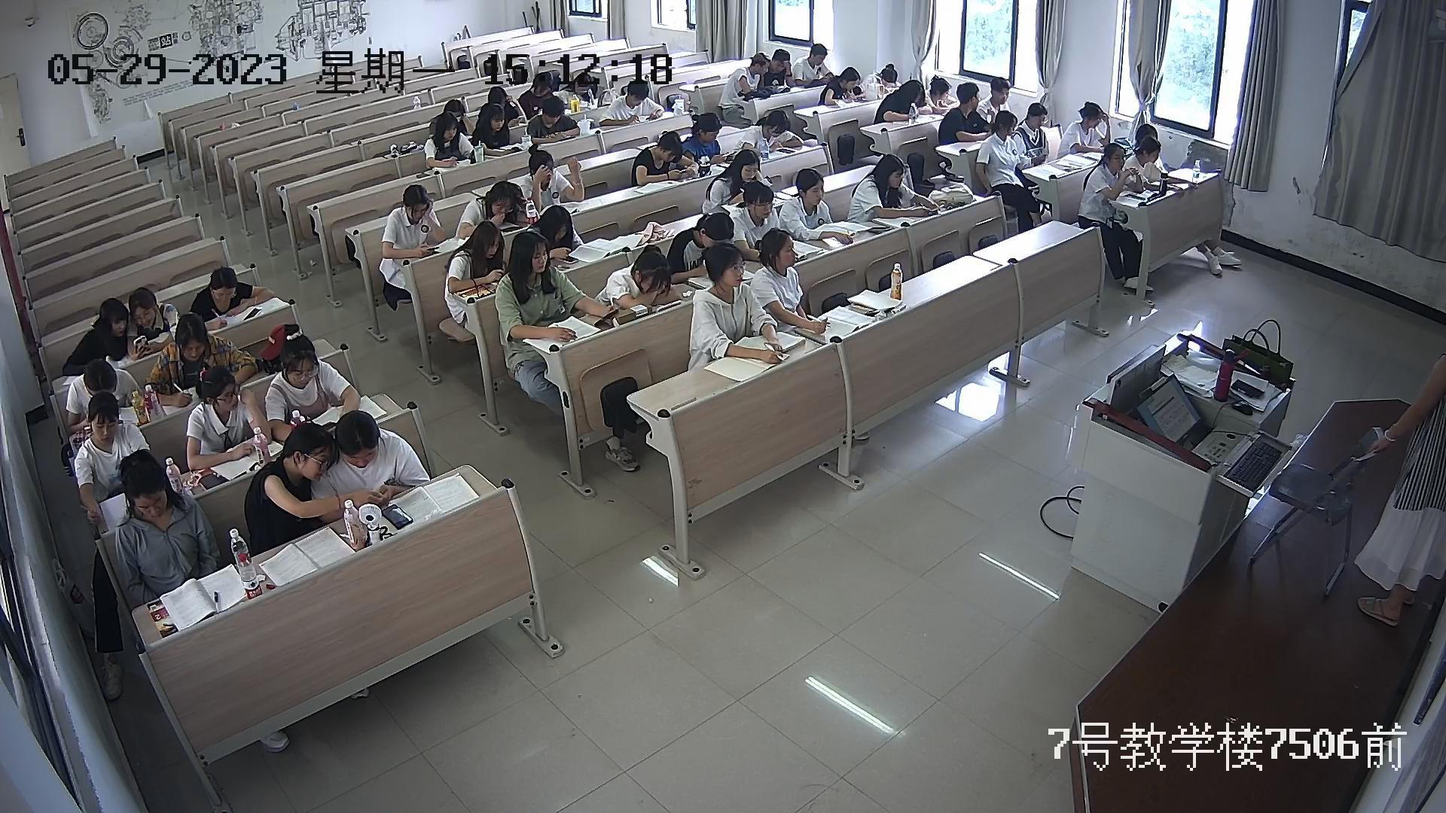Bend Over The Desk: (612, 252, 674, 304)
Hand Under Table: (199, 533, 223, 575), (124, 566, 149, 604), (795, 296, 809, 313)
Look Around: (280, 424, 335, 482), (199, 372, 241, 422), (958, 82, 981, 121)
Normal: (192, 270, 267, 324)
Stand Up: (1381, 303, 1446, 611)
Wave: (568, 156, 587, 203)
phone: (593, 305, 622, 323), (924, 200, 945, 221), (419, 241, 442, 260), (132, 335, 151, 357), (675, 163, 692, 180), (779, 145, 794, 157), (723, 149, 736, 160)
